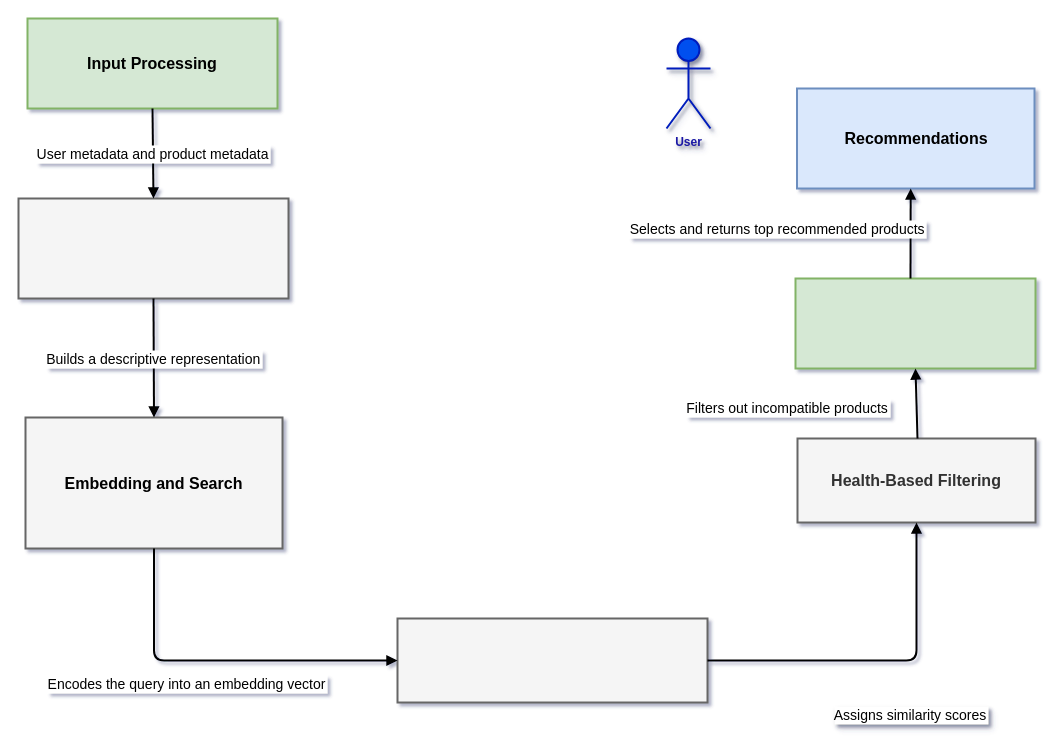
This 1059x746 diagram has some shape labels left out. Each missing label, with the centre of its shape:
Query Construction: point (153, 248)
Result Selection: point (915, 323)
Scoring and Re-ranking: point (552, 660)
